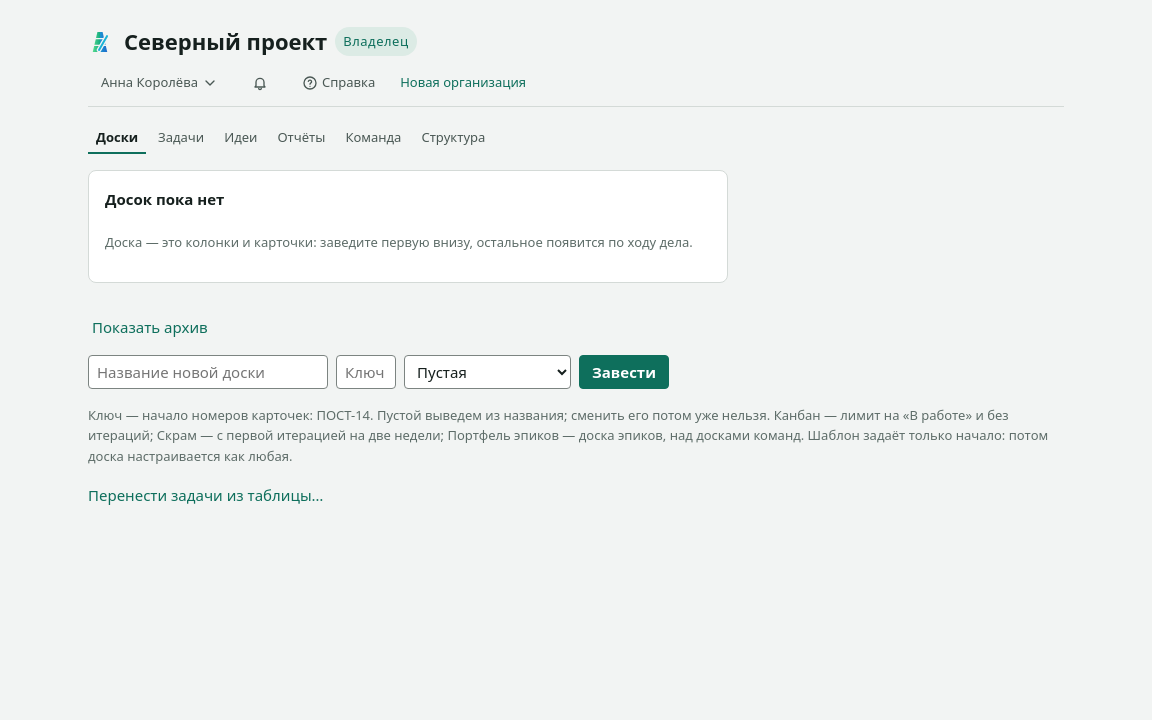
Test: смена имени обновляет шапку и кладёт отказ под поле
Expected: the heading "Северный проект" is shown, [124,24,327,59]
Click the button "Анна Королёва": click(159, 83) [88,67,231,98]
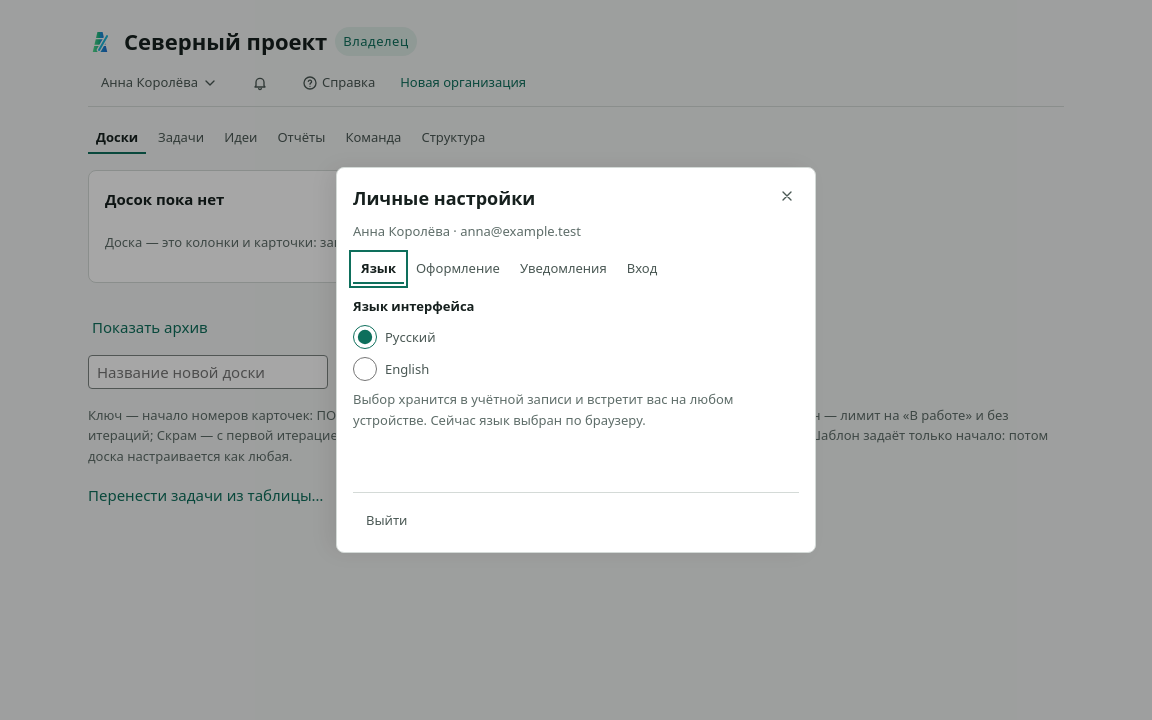
Click the tab "Вход": click(642, 269) [619,254,665,284]
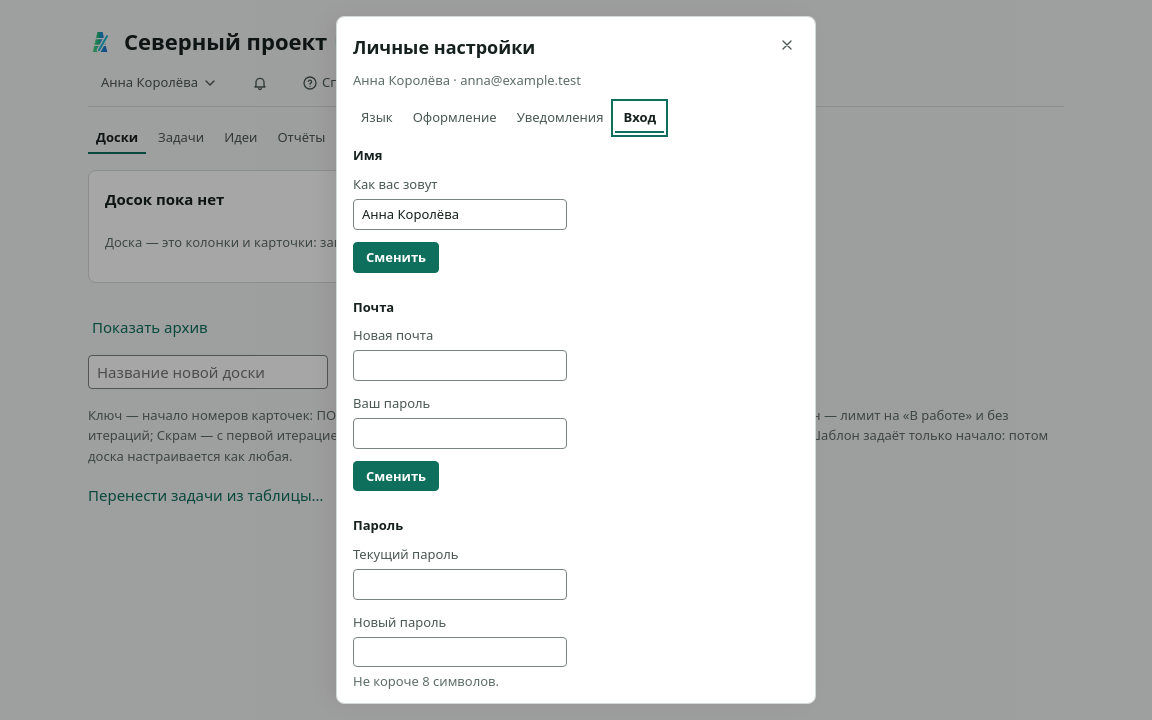
Now the field labelled "Как вас зовут" holds "Анна Королёва", box [353,199,567,230]
Click the button with aria-label "Сменить имя": click(396, 257) [353,242,439,273]
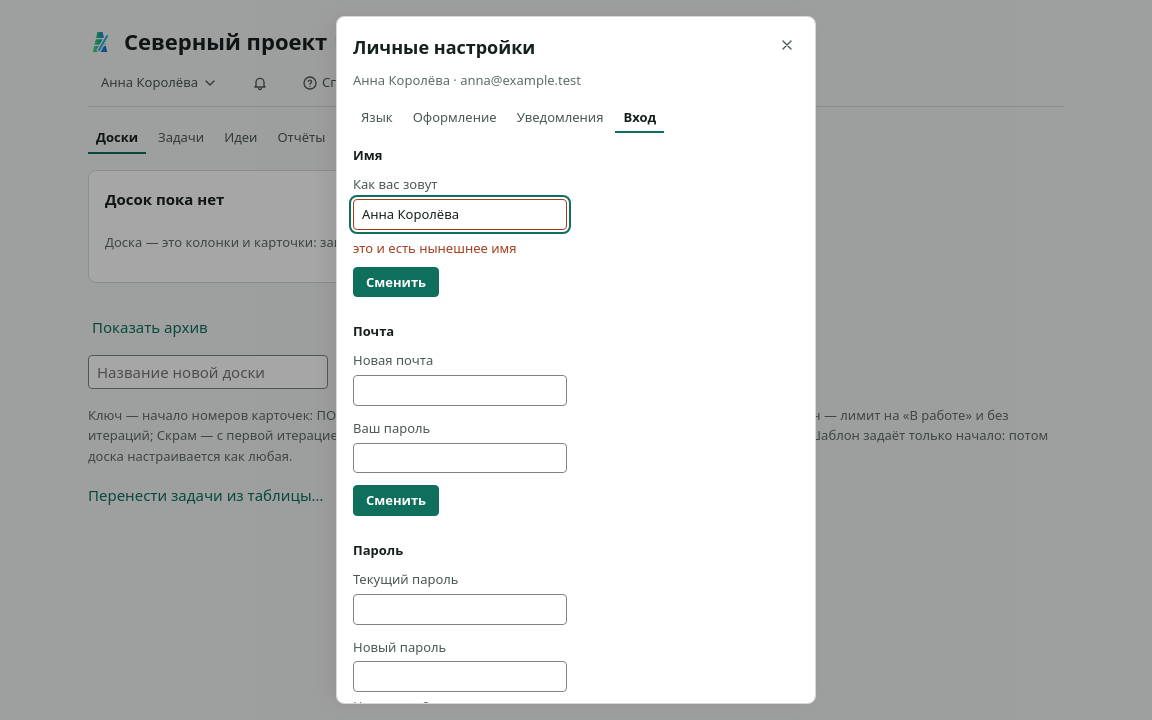
Replace the text in the field labelled "Как вас зовут" with "Анна Петрова": (460, 214) [353,199,567,230]
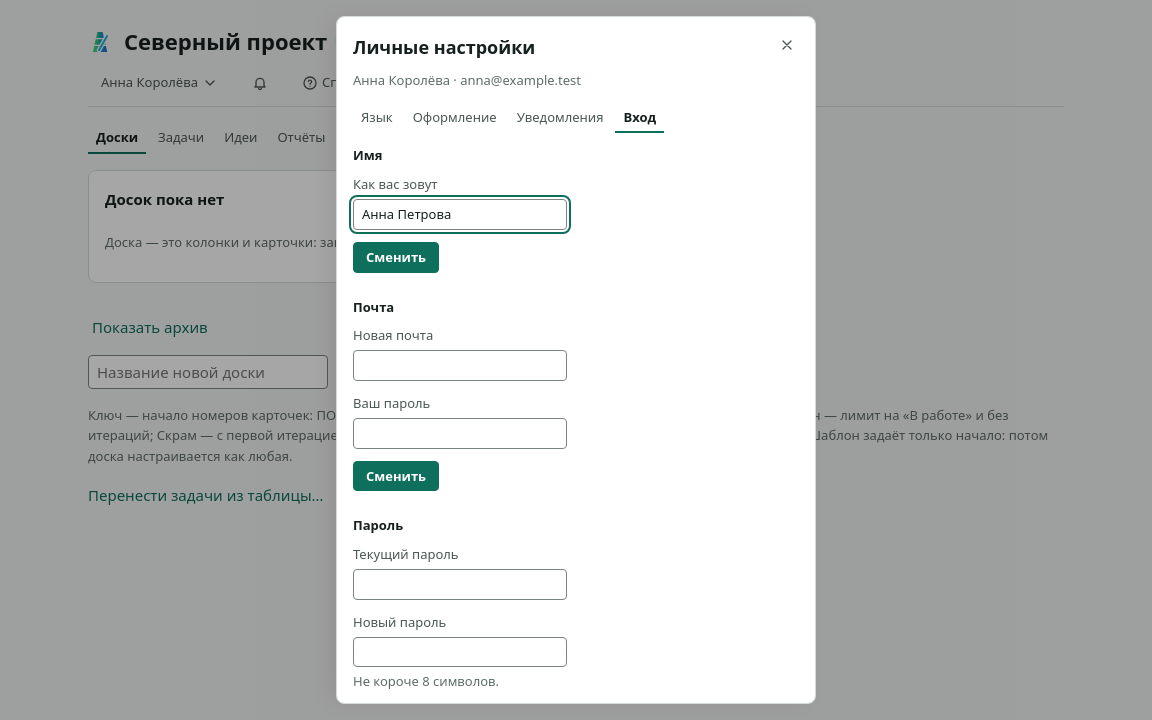
Click the button with aria-label "Сменить имя": click(396, 257) [353,242,439,273]
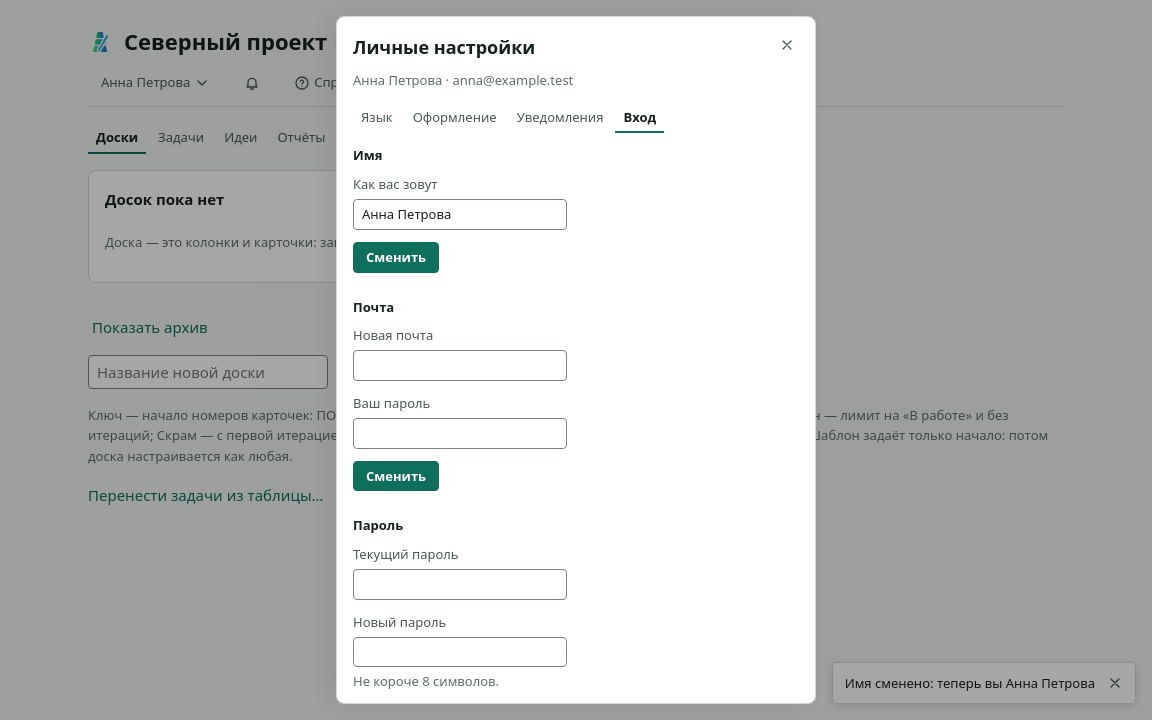
Now the button with aria-label "Личные настройки: Анна Петрова" is shown, box [88,67,223,98]
